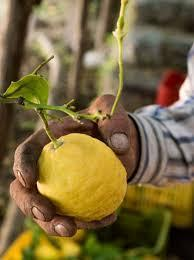lemon: (36, 134, 127, 222)
